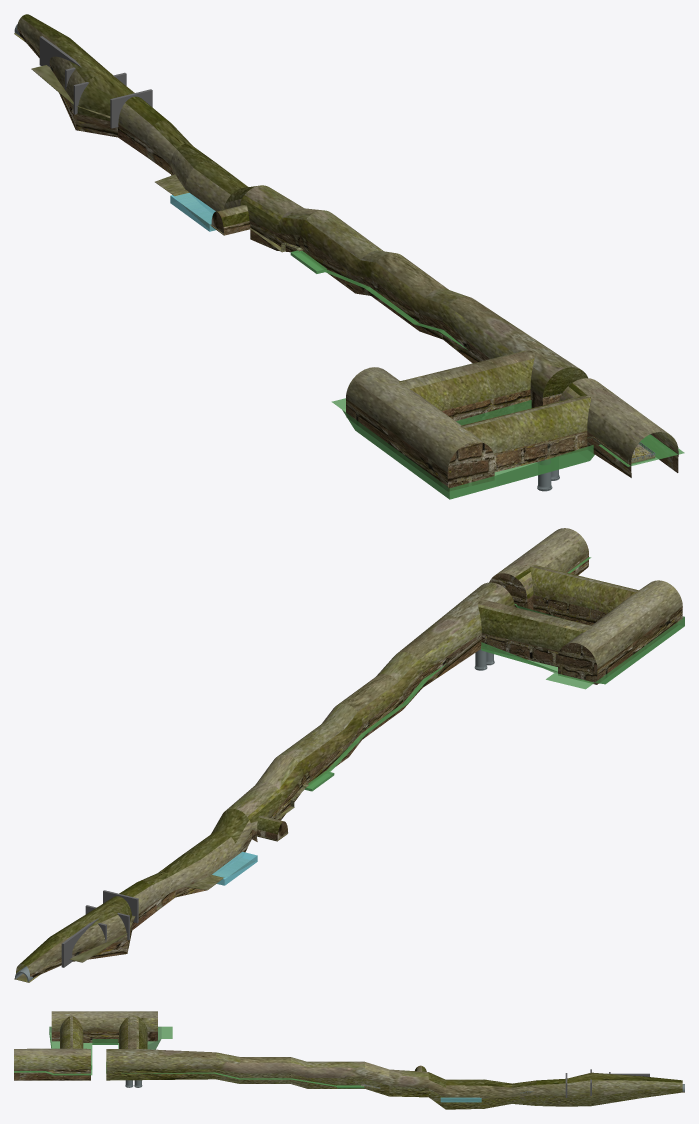
Rendered from Kanal_.fbx.
The picture shows the model from 3 angles, top to bottom: view 1: azimuth 30°, elevation 25°; view 2: azimuth 150°, elevation 25°; view 3: azimuth 270°, elevation 25°; orthographic projection. The views are drawn at different scales.
Visible parts, largest first — view 1: Cylinder.004, Plane, Cube.003, Cube.055; view 2: Cylinder.004, Plane, Cube.055; view 3: Cylinder.004, Plane, Cube.055.
Part boxes in pixels (x1,y1,x2,y2): Cylinder.004: (17,14,678,490); Plane: (322,269,684,499); Cube.003: (155,174,214,230); Cube.055: (170,192,215,231); Cylinder.004: (16,528,682,977); Plane: (326,557,684,771); Cube.055: (212,852,257,885); Cylinder.004: (14,1011,682,1109); Plane: (14,1026,336,1086); Cube.055: (440,1097,481,1102).
Bounding box in the file's own units: 149000 × 73914 × 821440.
